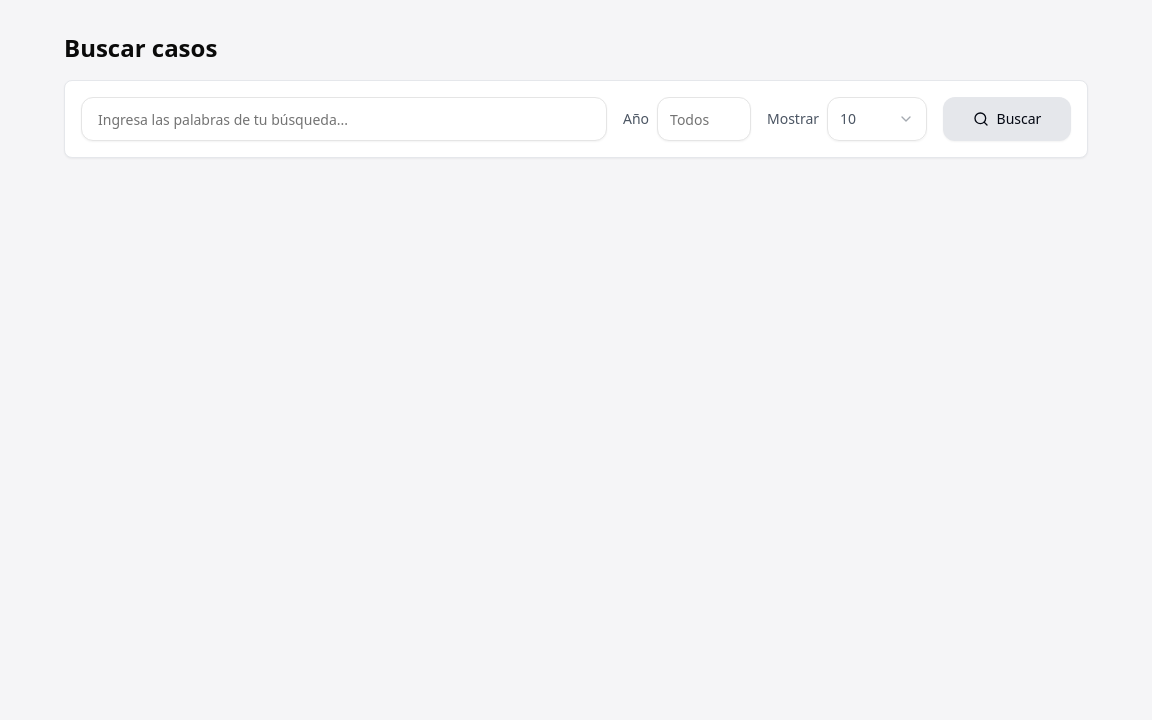
Test: <Search /> › runs a real search and renders a result
This screenshot has width=1152, height=720.
Check: the heading "Buscar casos" is shown, box [64, 31, 217, 64]
Type "derecho" into the search field with placeholder "Ingresa las palabras de tu búsqueda...".
click(344, 119); type("derecho")  # box [81, 97, 607, 141]
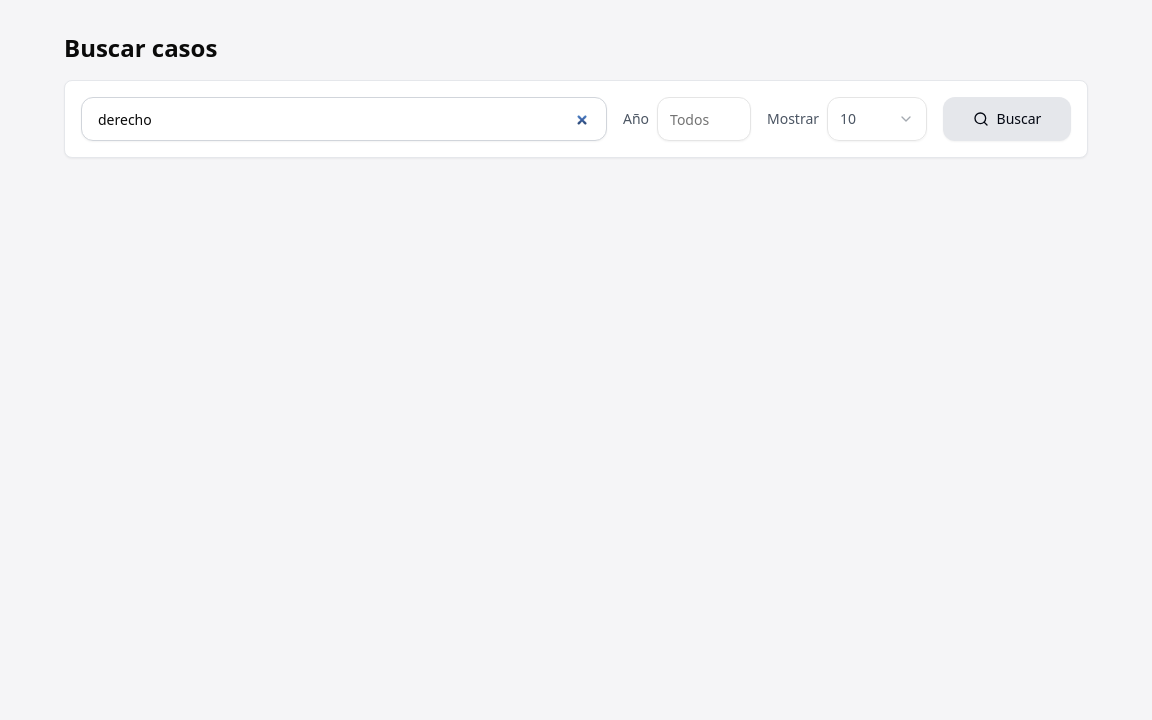
Click the button "Buscar".
click(1007, 119)  # box [943, 97, 1071, 141]
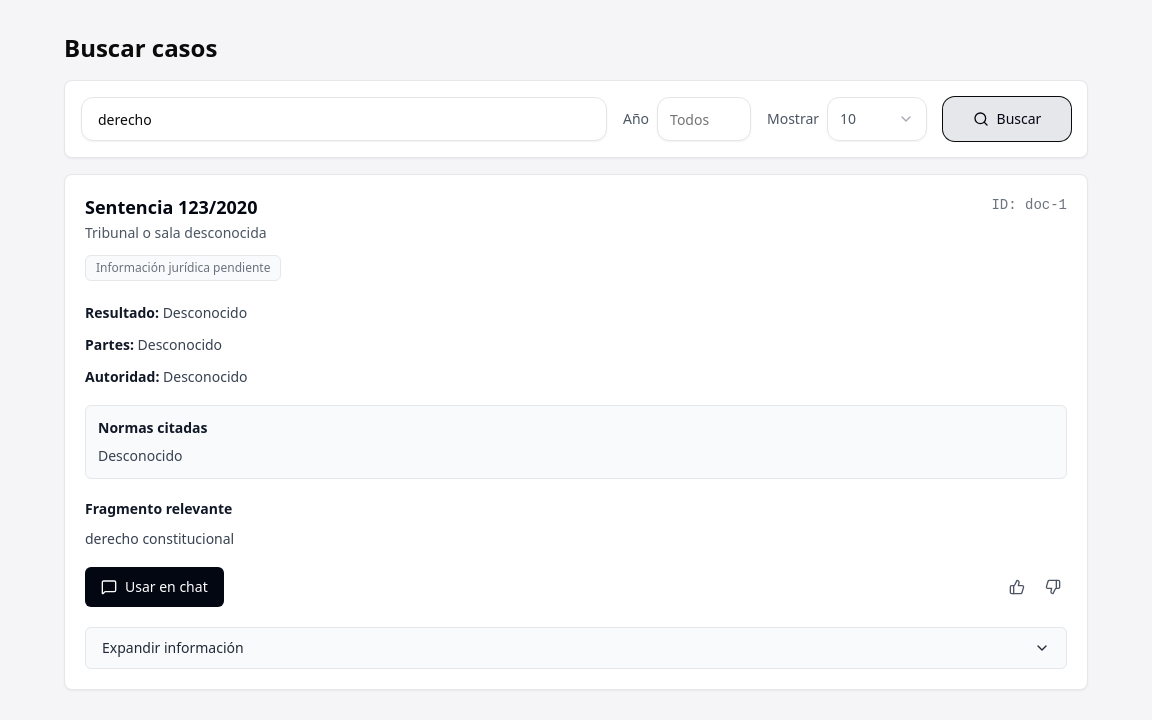
Check: the heading "Sentencia 123/2020" is shown, box [85, 195, 281, 219]
Check: the text "derecho constitucional" is shown, box [85, 529, 234, 548]
